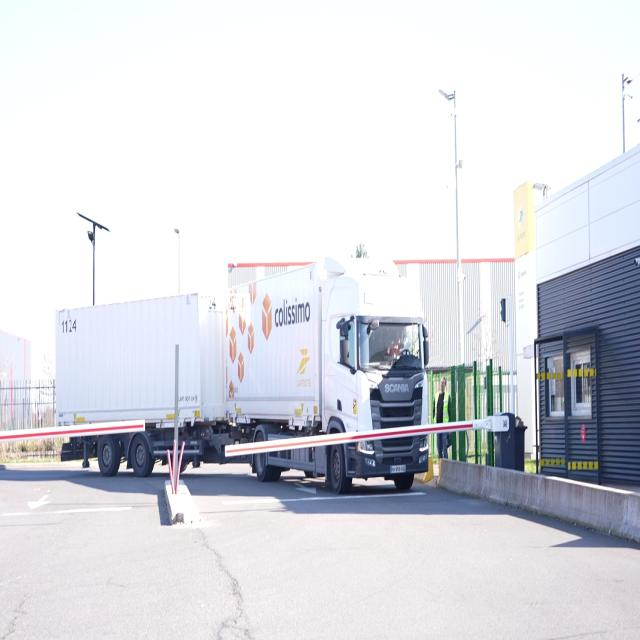Code: (56, 312, 80, 339)
